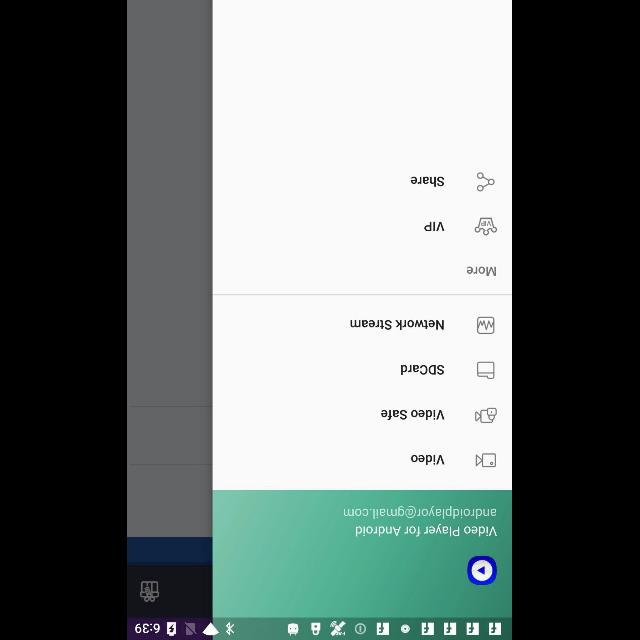icon: (468, 556, 498, 584), (478, 172, 496, 192), (475, 407, 497, 423), (477, 361, 495, 379)
image: (474, 217, 498, 235), (477, 316, 495, 334), (476, 453, 496, 467)
panel: (214, 0, 512, 618)
text: (344, 505, 498, 519), (357, 524, 498, 536), (351, 320, 445, 330), (382, 410, 446, 420), (402, 365, 444, 375), (412, 454, 446, 464), (411, 177, 445, 187), (468, 266, 497, 276), (425, 222, 445, 230)
uppertaskbar: (128, 617, 512, 639)
